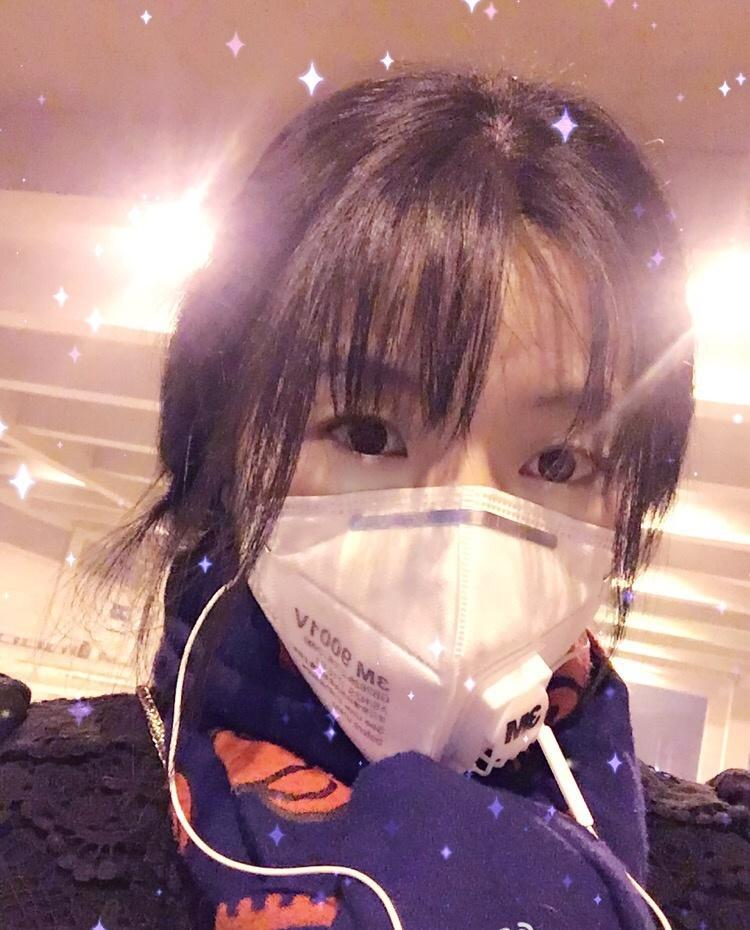OK: (231, 332, 657, 758)
